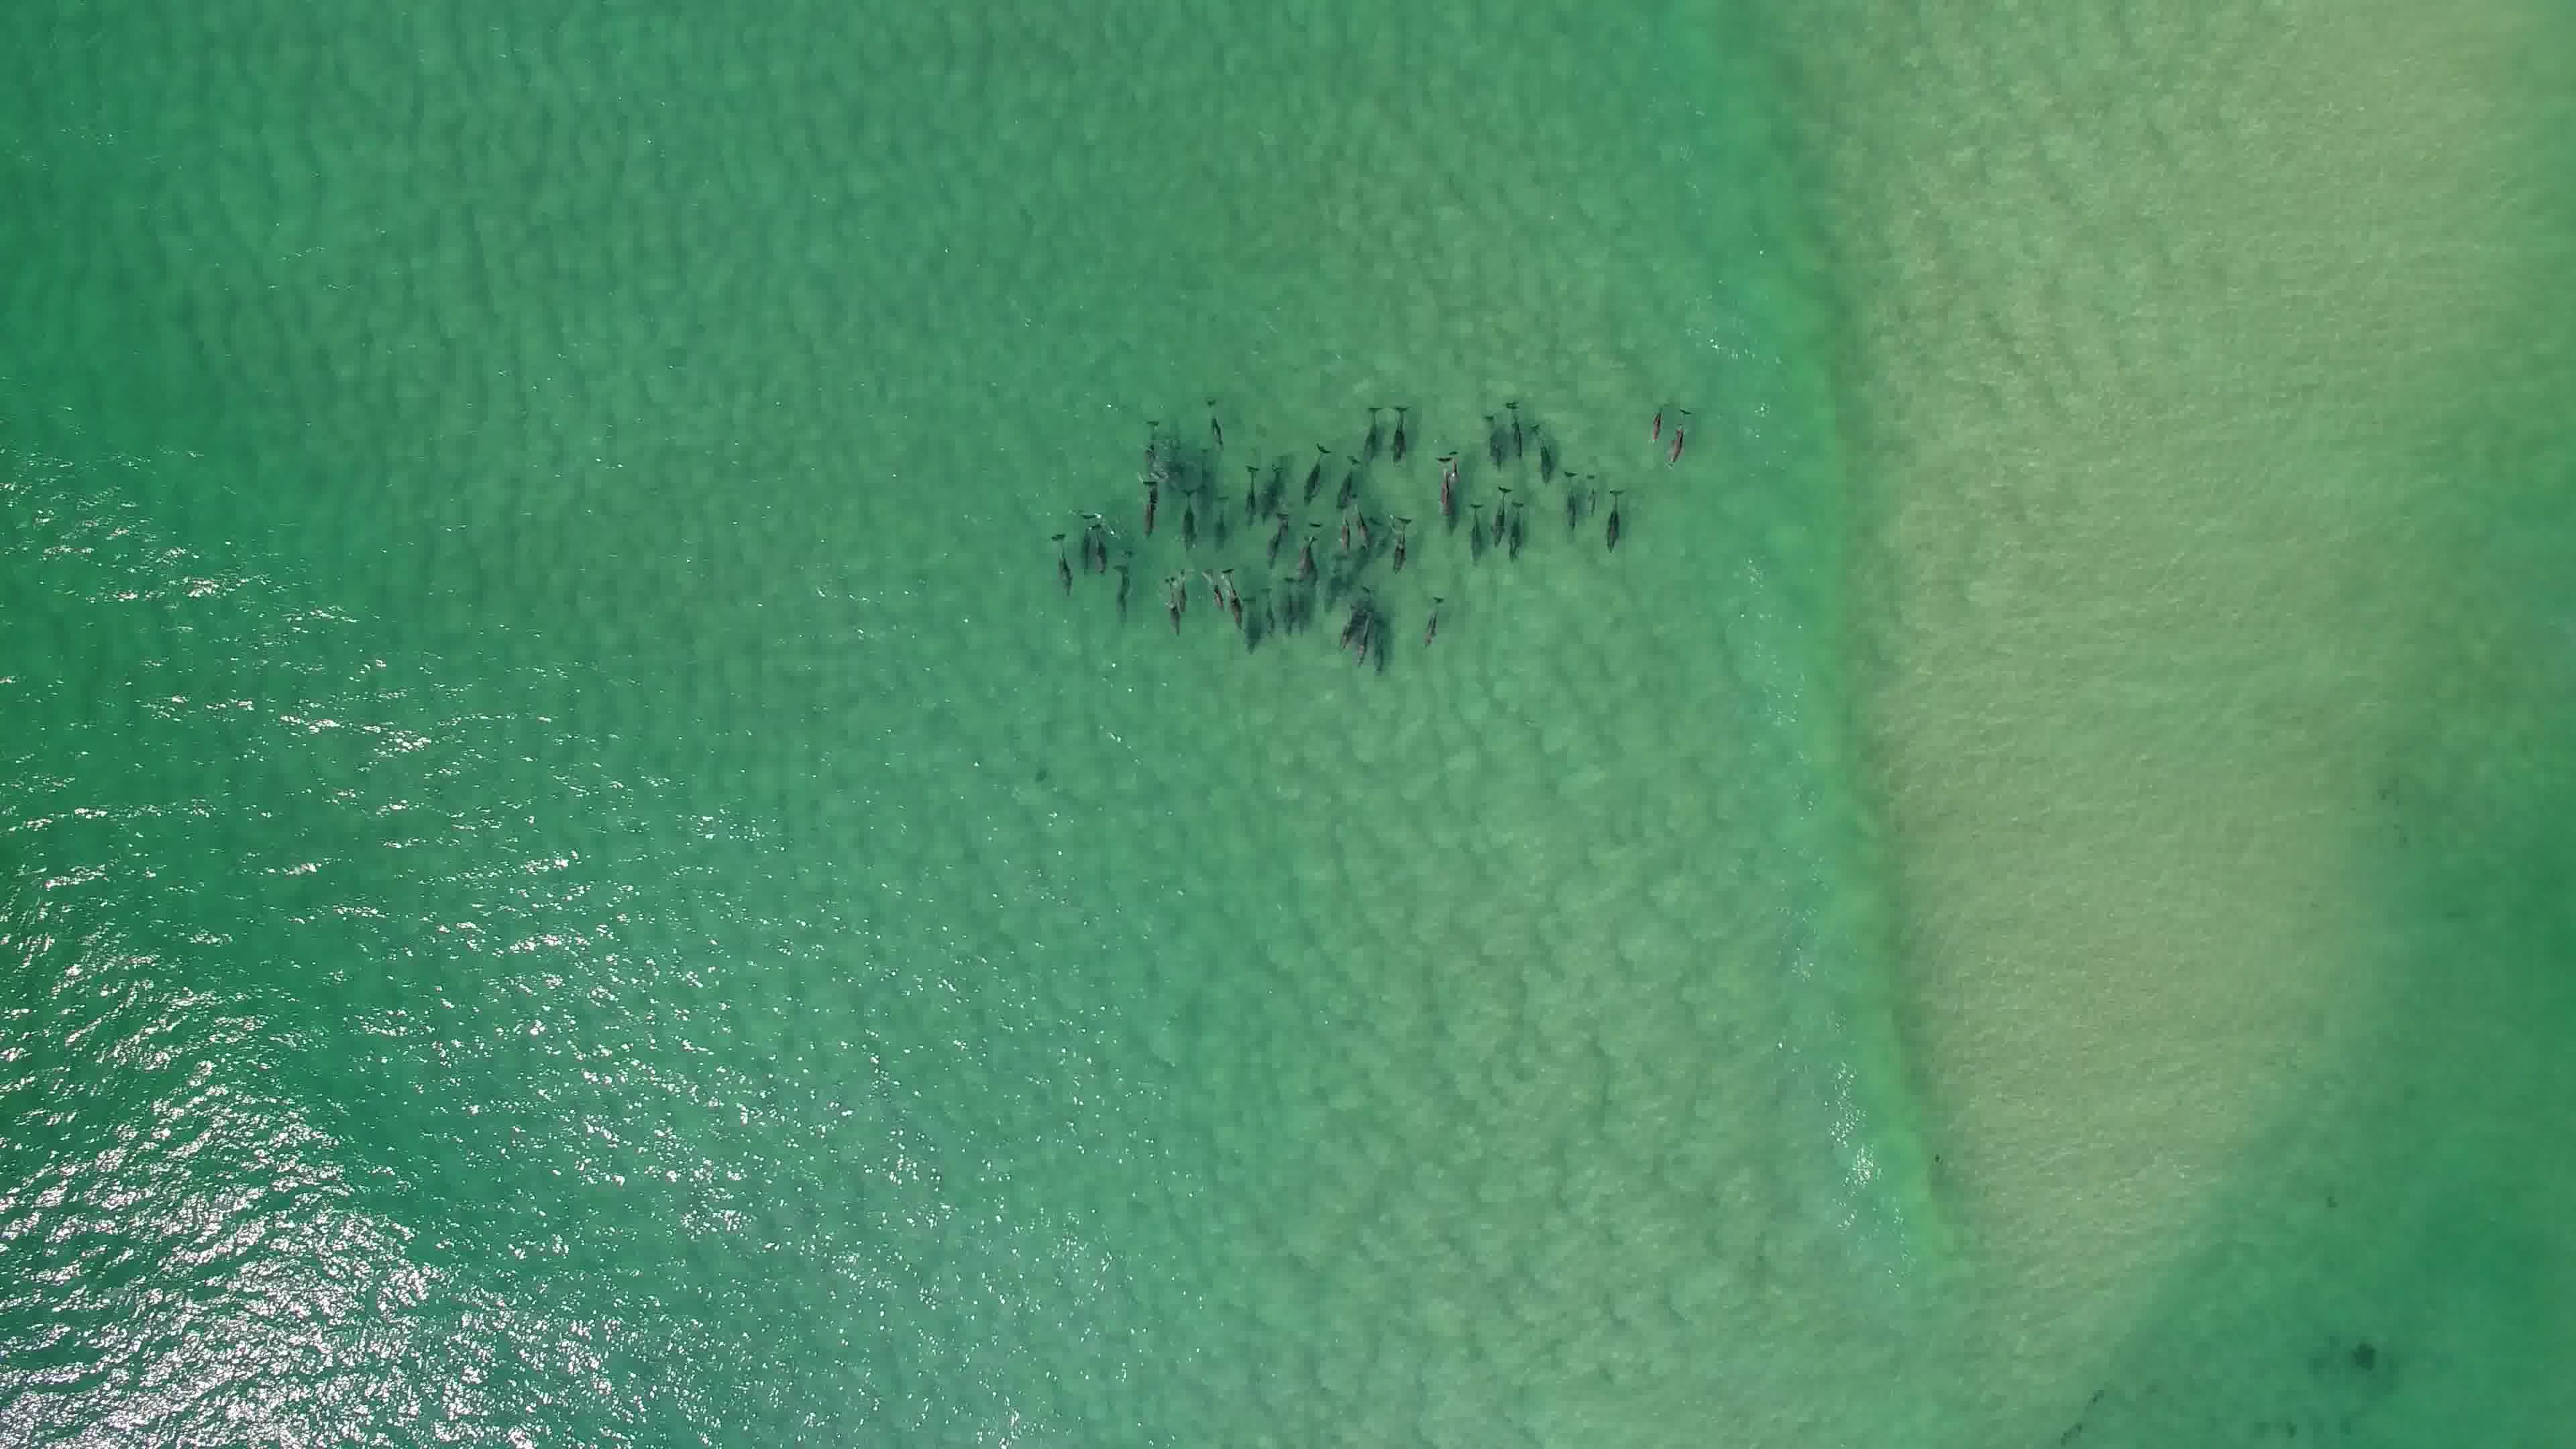dolphin: (1403, 587, 1454, 651), (1468, 400, 1513, 472), (1523, 403, 1557, 490), (1254, 448, 1292, 525), (1288, 515, 1329, 586), (1596, 479, 1633, 556), (1419, 444, 1454, 524), (1499, 395, 1536, 465), (1042, 525, 1077, 600), (1196, 400, 1238, 462), (1663, 400, 1697, 478), (1217, 563, 1254, 632), (1336, 580, 1369, 655), (1295, 439, 1330, 508), (1173, 479, 1208, 548), (1136, 403, 1168, 479), (1132, 478, 1169, 541), (1154, 561, 1184, 639), (1553, 464, 1585, 534), (1484, 478, 1513, 557), (1637, 391, 1672, 451), (1506, 492, 1532, 571), (1330, 444, 1362, 510), (1348, 600, 1380, 663), (1345, 492, 1378, 552), (1196, 559, 1230, 619), (1111, 545, 1138, 621), (1458, 492, 1483, 571), (1205, 488, 1237, 550), (1260, 513, 1292, 575), (1353, 400, 1385, 460), (1168, 557, 1198, 619), (1086, 513, 1113, 577), (1389, 398, 1414, 465), (1076, 508, 1099, 573), (1389, 511, 1412, 575), (1237, 458, 1258, 524), (1279, 573, 1299, 639), (1442, 435, 1467, 487), (1330, 502, 1355, 552), (1258, 580, 1277, 639), (1293, 587, 1313, 640)
